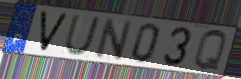0: (129, 21, 162, 65)
3: (161, 26, 195, 68)
N: (94, 16, 135, 61)
Q: (192, 28, 229, 73)
U: (62, 14, 103, 58)
V: (38, 9, 71, 55)
